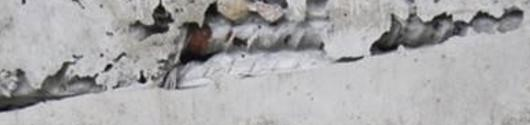Exposed reinforcement: (180, 13, 471, 58)
Spalling: (1, 1, 525, 112)
